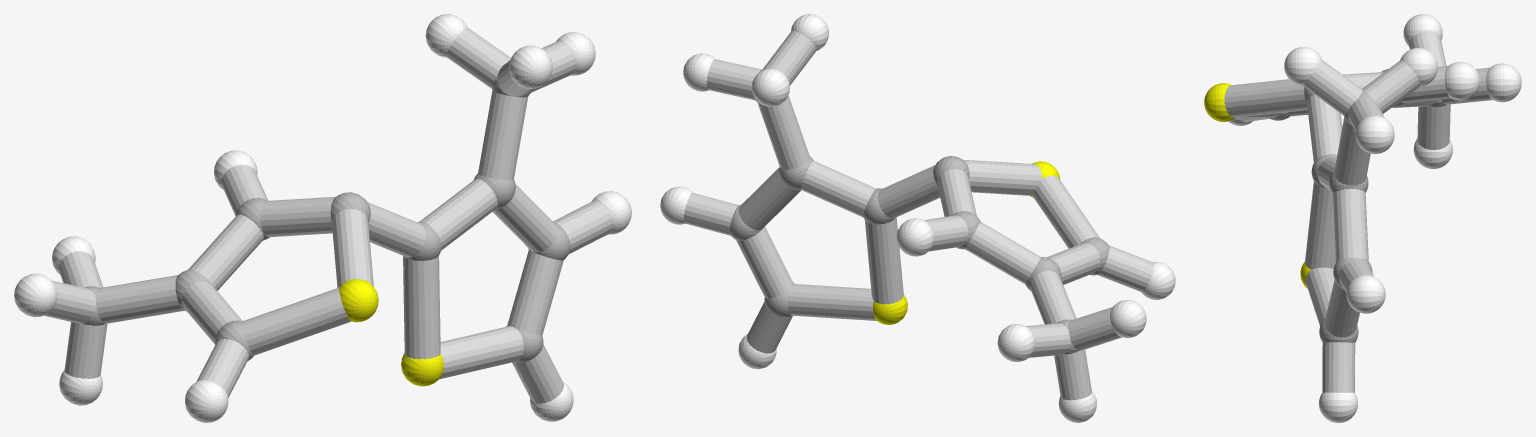
File: Methylthiophene_Phi_60_Theta_260_Methylthiophene.glb
The picture shows the model from 3 angles, left to right: view 1: azimuth 30°, elevation 25°; view 2: azimuth 150°, elevation 25°; view 3: azimuth 270°, elevation 25°; orthographic projection. The views are drawn at different scales.
Parts seen in each view (by area): view 1: grp7965, grp3621, grp1, grp7241; view 2: grp7965, grp3621, grp1, grp7241; view 3: grp7965, grp3621, grp1, grp7241.
Part boxes in pixels (x1=…): grp7965: x1=44, y1=27, x2=612, y2=403; grp3621: x1=14, y1=14, x2=631, y2=422; grp1: x1=83, y1=74, x2=570, y2=362; grp7241: x1=339, y1=279, x2=443, y2=386; grp7965: x1=683, y1=31, x2=1153, y2=400; grp3621: x1=660, y1=14, x2=1175, y2=422; grp1: x1=730, y1=68, x2=1109, y2=354; grp7241: x1=873, y1=161, x2=1060, y2=324; grp7965: x1=1224, y1=31, x2=1492, y2=392; grp3621: x1=1228, y1=14, x2=1521, y2=422; grp1: x1=1268, y1=69, x2=1446, y2=342; grp7241: x1=1204, y1=83, x2=1310, y2=288.
Size of the model in its own units: 9.17 by 5.99 by 4.86.
